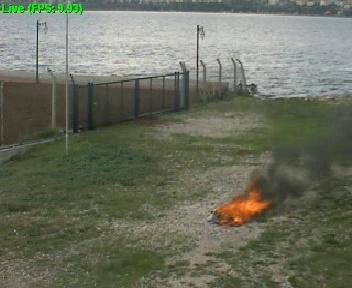fire: (265, 154, 331, 195), (217, 197, 267, 222)
